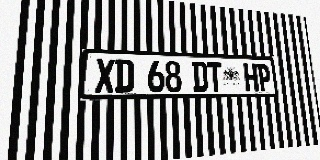6: (147, 60, 165, 92)
8: (165, 61, 182, 92)
D: (115, 59, 134, 92), (192, 61, 208, 92)
H: (243, 63, 259, 91)
P: (257, 64, 272, 91)
T: (207, 62, 223, 92)
X: (95, 58, 115, 93)
